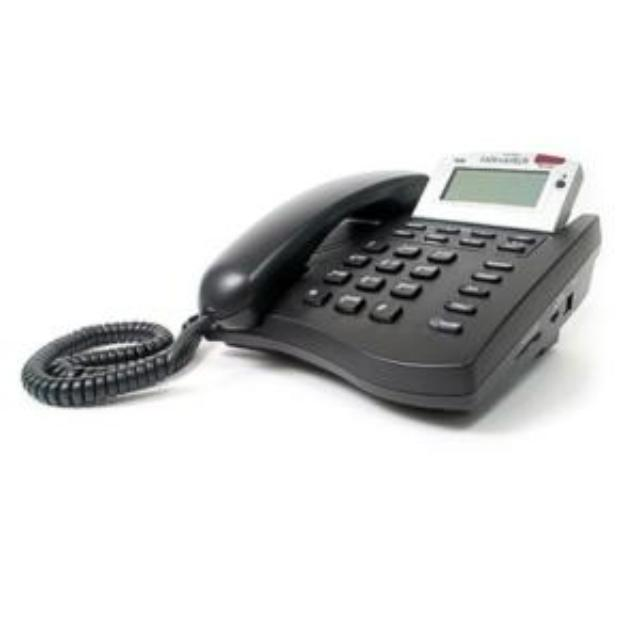Telephone-Set: (21, 144, 604, 438)
